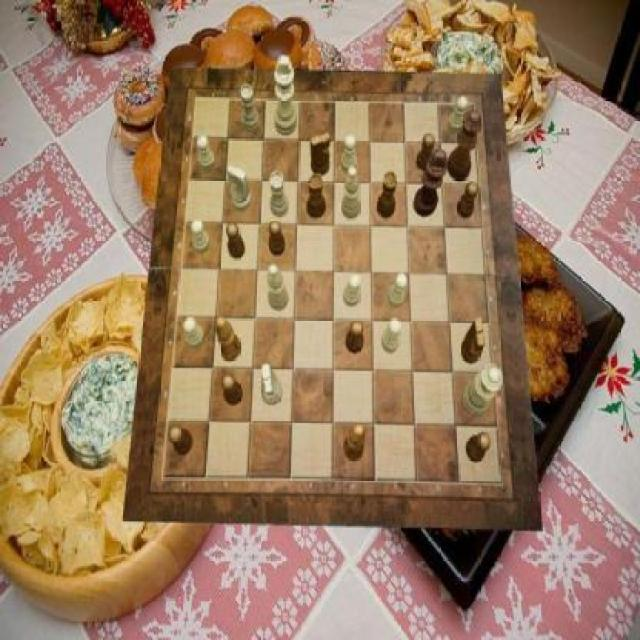bishop: (217, 315, 241, 361), (343, 423, 365, 461)
black-bishop: (414, 149, 449, 217)
black-king: (460, 318, 485, 364), (311, 132, 331, 176)
black-knight: (169, 424, 194, 456), (457, 182, 478, 219), (466, 432, 491, 463), (221, 374, 244, 406), (227, 222, 246, 259), (416, 132, 434, 170), (346, 320, 364, 354), (269, 220, 286, 256)
black-pawn: (448, 111, 483, 183)
black-queen: (377, 172, 397, 220), (308, 172, 328, 218)
black-rook: (266, 264, 289, 310), (342, 168, 362, 220)
white-bishop: (274, 55, 297, 137)
white-king: (228, 166, 252, 212), (261, 365, 284, 406)
white-knight: (446, 95, 469, 133), (388, 272, 408, 308), (184, 317, 206, 349), (197, 136, 216, 172), (382, 319, 402, 353), (191, 219, 210, 253), (342, 136, 358, 176), (343, 274, 361, 308)
white-pawn: (462, 363, 502, 417)
white-queen: (238, 85, 260, 132), (270, 172, 288, 218)
